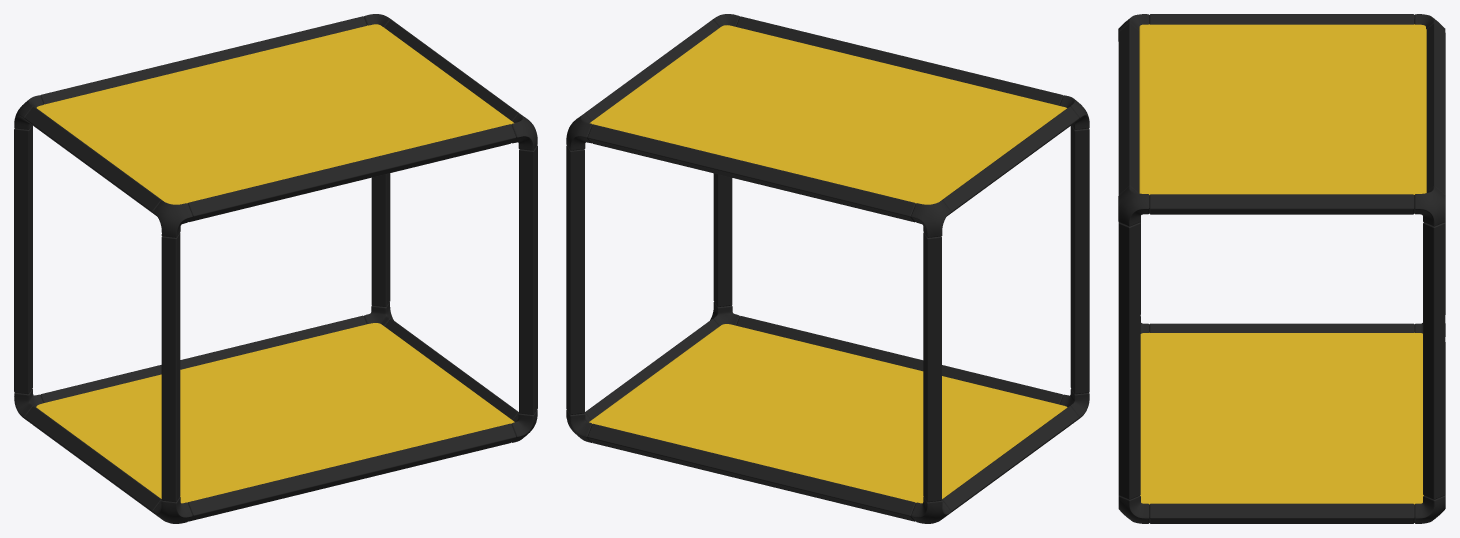
3 renders of one model, left to right at view 1: azimuth 30°, elevation 25°; view 2: azimuth 150°, elevation 25°; view 3: azimuth 270°, elevation 25°, orthographic. The views are drawn at different scales.
Visible parts, largest first — view 1: 479x329x374; view 2: 479x329x374; view 3: 479x329x374.
Boxes of the visible parts, x1,y1,x2,y2 form: 479x329x374: [14, 14, 537, 523]; 479x329x374: [566, 14, 1089, 523]; 479x329x374: [1118, 14, 1445, 523].
Size of the model in its own units: 0.5567 by 0.4517 by 0.4063.
